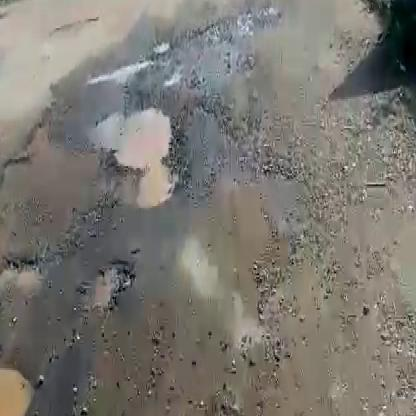pothole: (97, 104, 179, 209), (92, 258, 135, 316)
